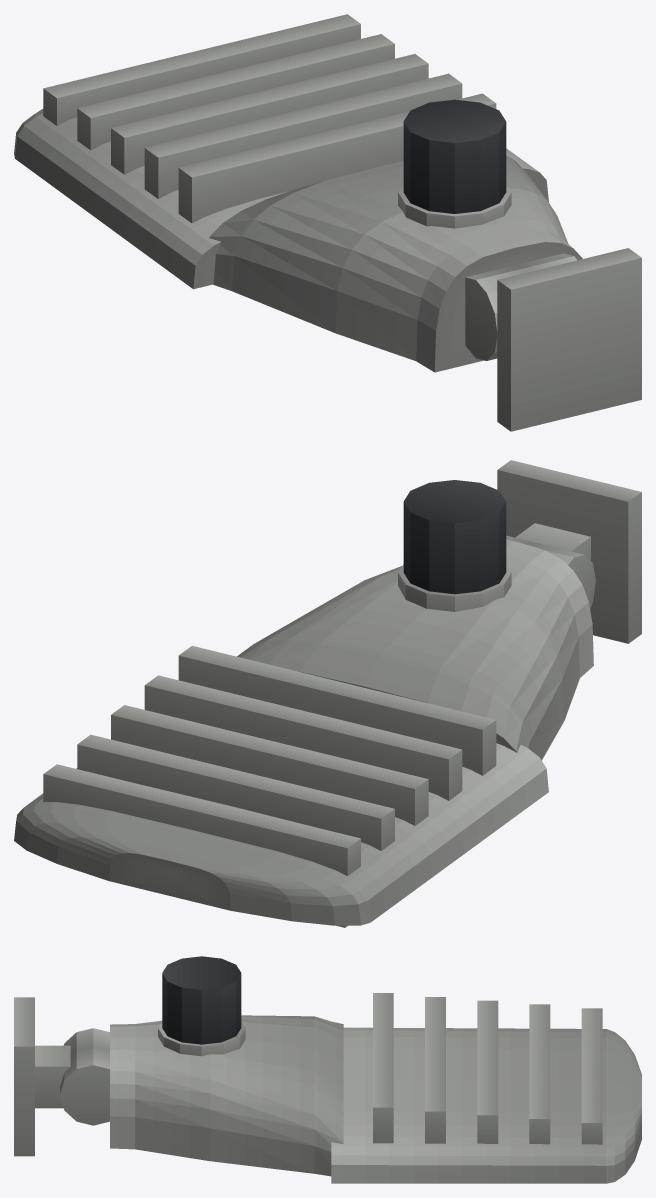
File: streetlight_geealswall.obj
3 renders of one model, top to bottom at view 1: azimuth 30°, elevation 25°; view 2: azimuth 150°, elevation 25°; view 3: azimuth 270°, elevation 25°, orthographic. The views are drawn at different scales.
Visible parts, largest first — view 1: fixture; view 2: fixture; view 3: fixture.
Boxes of the visible parts, left/top/right/bottom form: fixture: left=14, top=14, right=641, bottom=431; fixture: left=14, top=460, right=641, bottom=927; fixture: left=14, top=956, right=641, bottom=1183.
Size of the model in its own units: 0.475 by 0.2622 by 0.9404.
